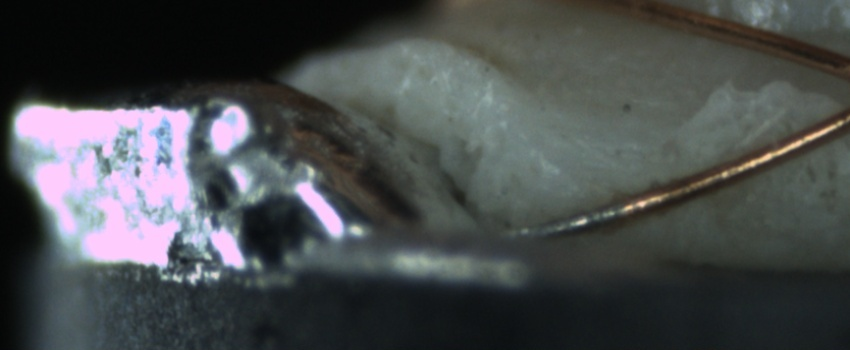TS: (499, 199, 625, 244)
TTCW: (497, 176, 695, 241)
